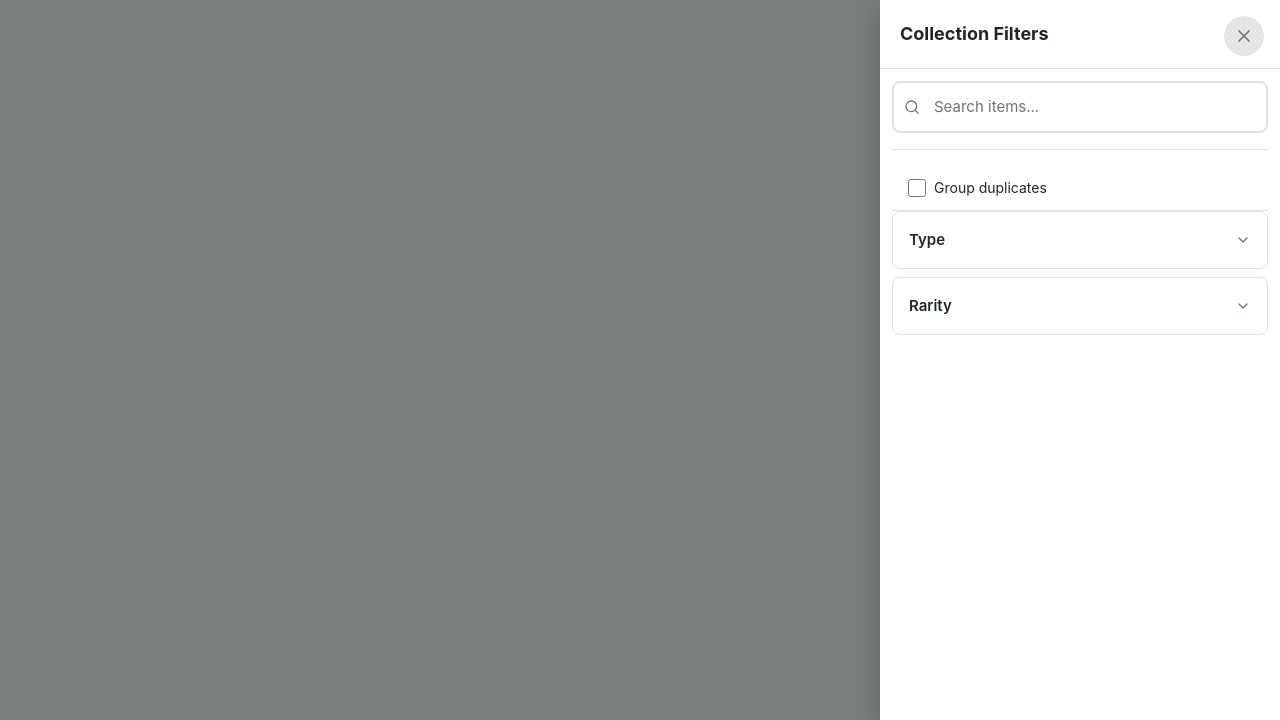
Test: CollectionFilterDrawer › allows text search filtering
Type in the search field
Type "Pikachu" into the field with placeholder "Search items..." at (1080, 107), box 892,81 -> 1268,133
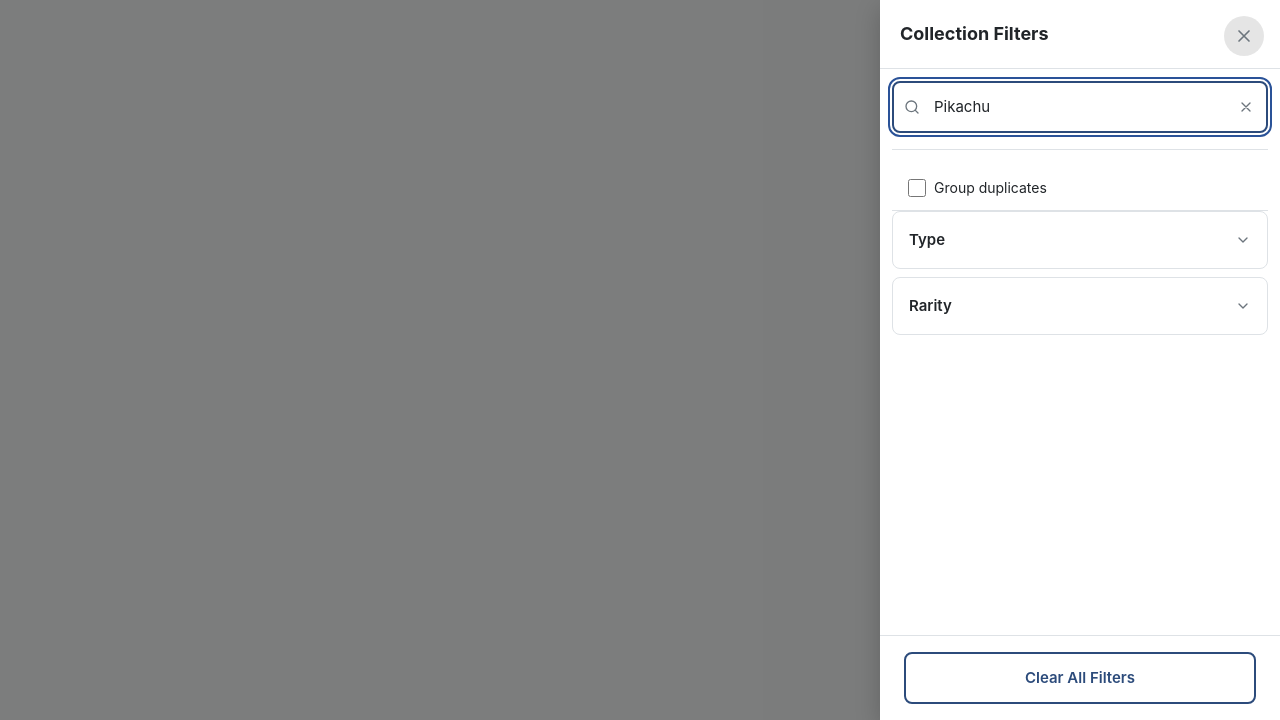
Expected: the button named "Clear text search" is shown, 1232,93 -> 1260,121
